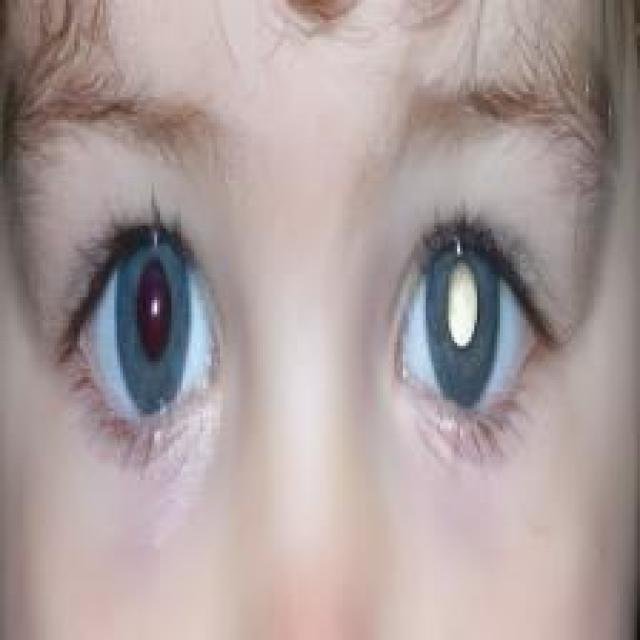reflexo-alterado: (395, 181, 558, 450)
reflexo-normal: (65, 226, 219, 448)
